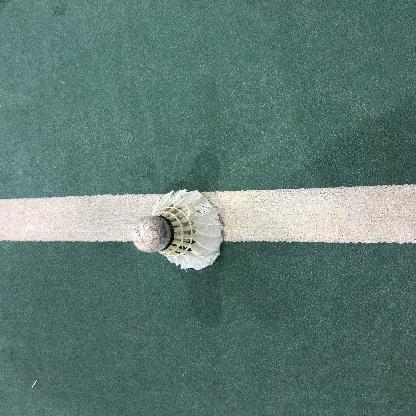ball_single: (132, 189, 223, 270)
